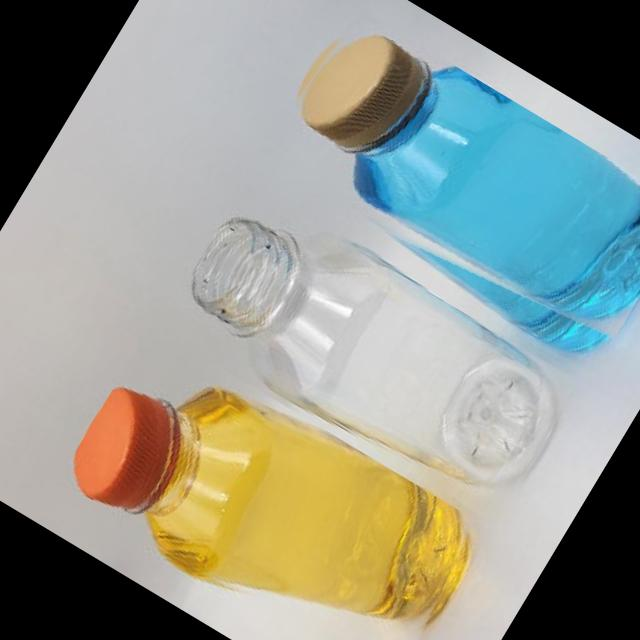plastic bottle: (248, 1, 640, 374), (162, 182, 582, 524), (53, 324, 491, 640)
